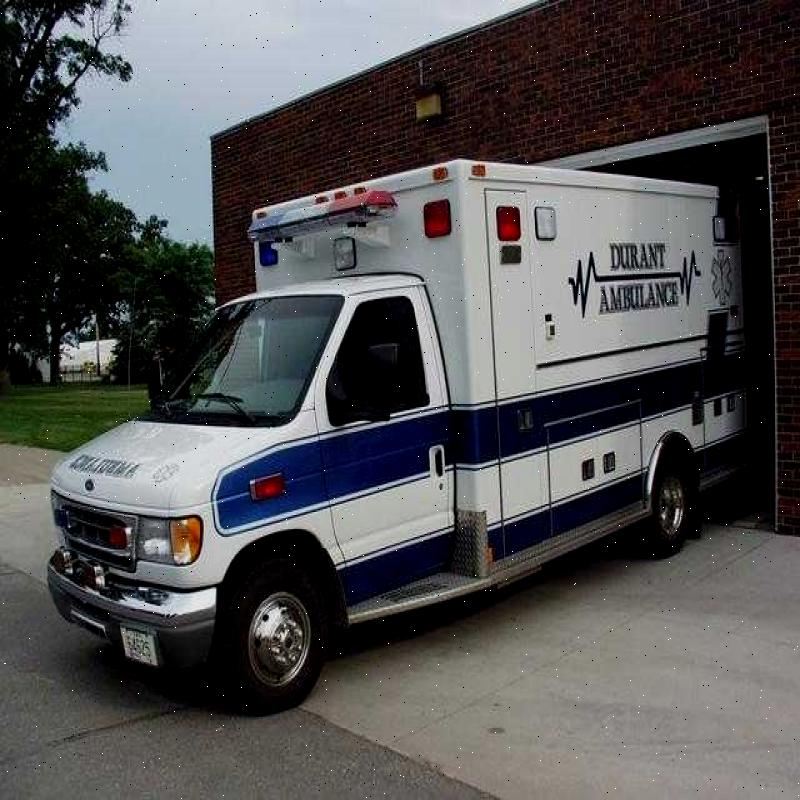AmbulanceSiren: (226, 188, 416, 232)
